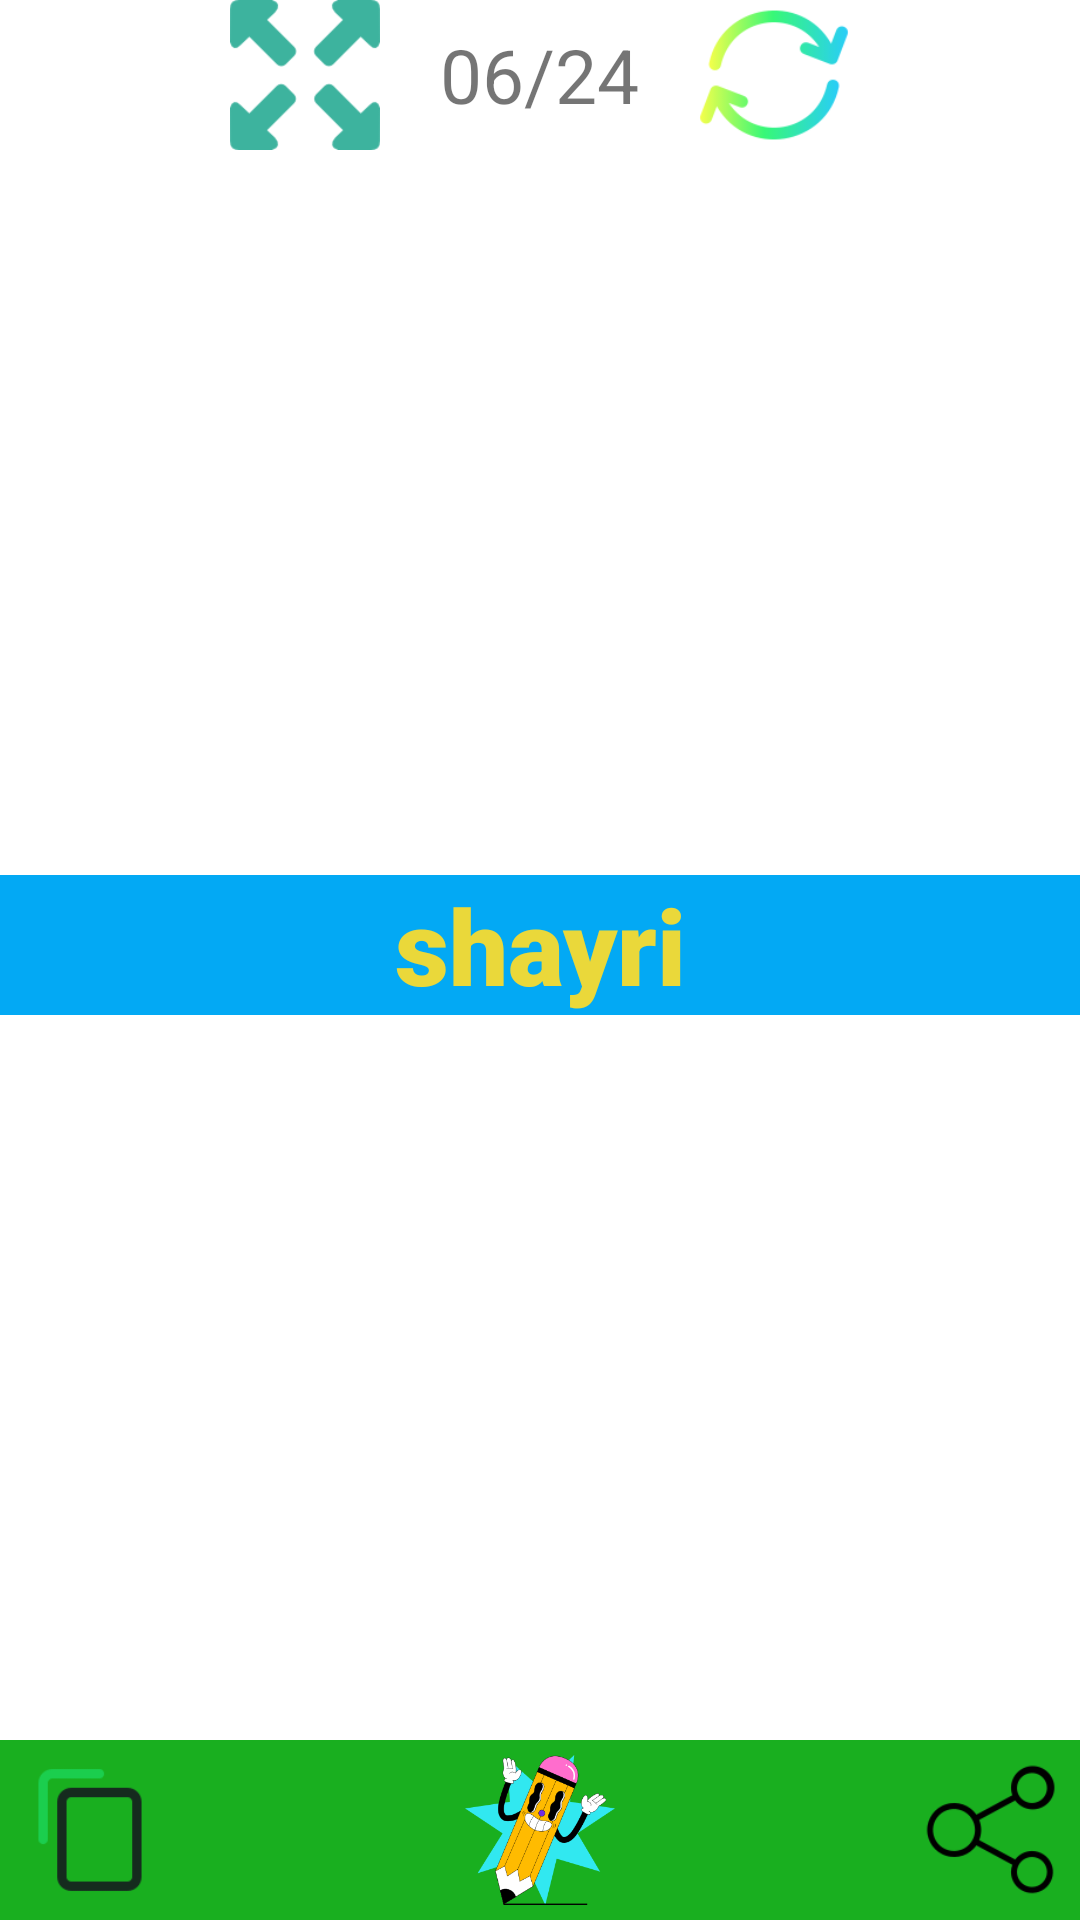

Screen size 1080 x 1920. Icon name, then its center in pixels as point (x, y):
extend buttton: point (305, 75)
share: point (990, 1829)
